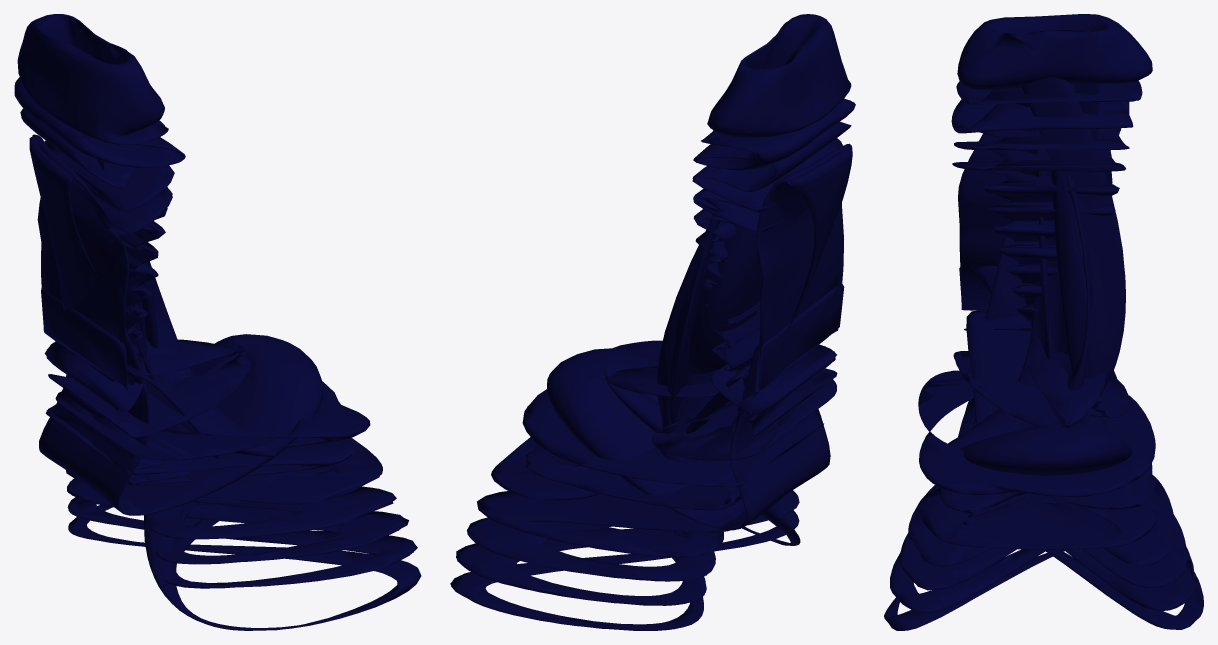
Rendered from higgs-boson-night-r-v27.glb.
3 renders of one model, left to right at view 1: azimuth 30°, elevation 25°; view 2: azimuth 150°, elevation 25°; view 3: azimuth 270°, elevation 25°, orthographic. The views are drawn at different scales.
Parts seen in each view (by area): view 1: higgs-boson-night; view 2: higgs-boson-night; view 3: higgs-boson-night.
Boxes of the visible parts, left/top/right/bottom form: higgs-boson-night: left=14, top=14, right=421, bottom=630; higgs-boson-night: left=450, top=14, right=855, bottom=630; higgs-boson-night: left=884, top=14, right=1203, bottom=630.
Bounding box in the file's own units: 0.7119 × 1.25 × 0.7073.
